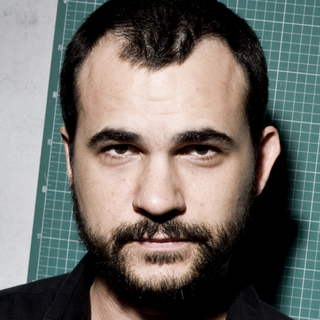eye: (93, 136, 149, 163), (173, 139, 227, 166)
